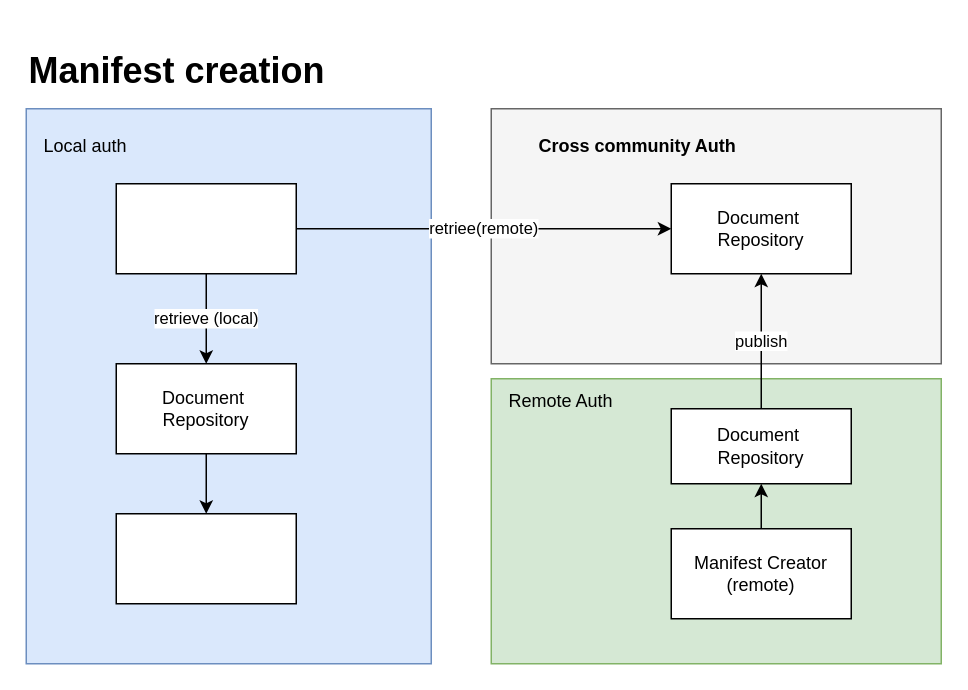
Some shapes in this 968 by 690 pixel diagram are drawn without their labels. The centre of each missing label's shape, as x and y in pixels:
"Document Consumer" goes at (x=205, y=228).
"Manifest Creator (local)" goes at (x=205, y=558).
